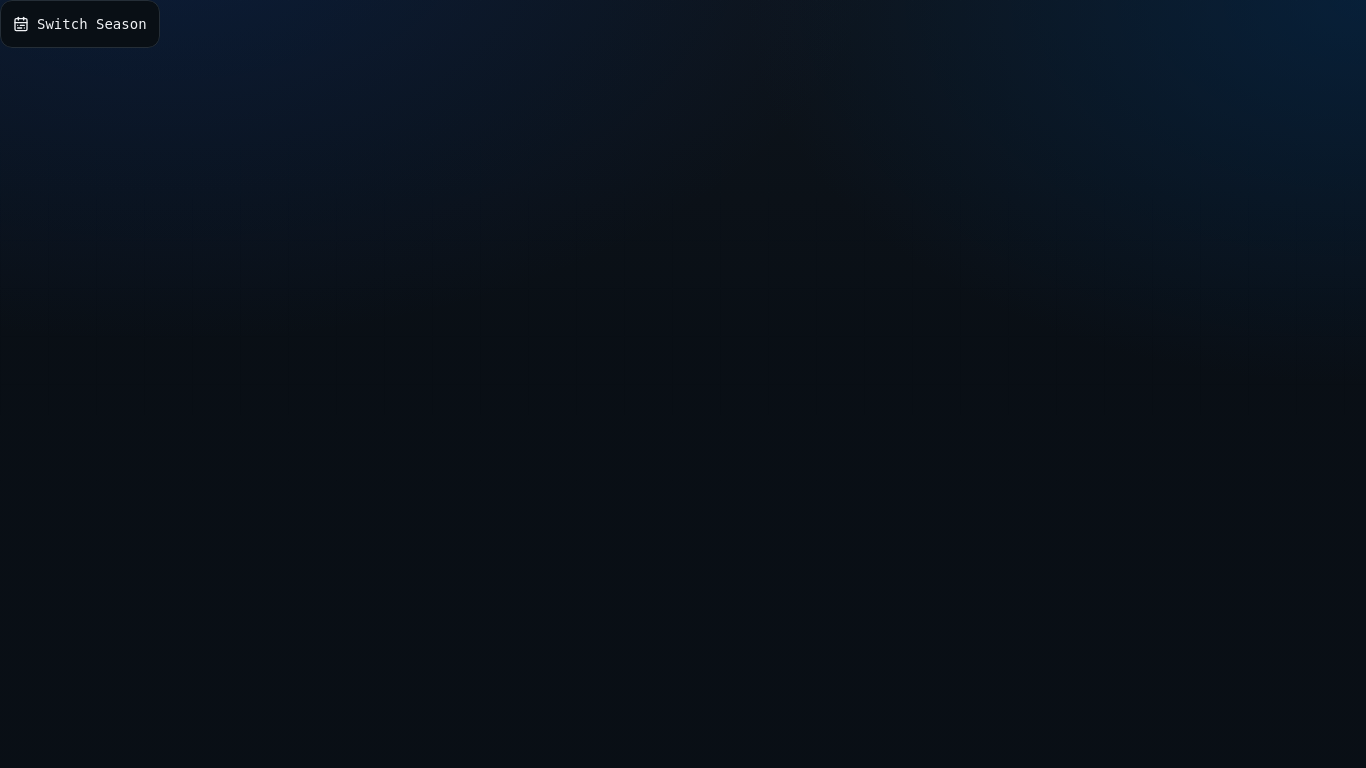
Scenario: SwitchSeasonButton — admin gating › confirms before switching, and only then calls through
The width and height of the screenshot is (1366, 768).
Later steps or results of the test are not shown.
Click the button "Switch Season". click: (80,24)
box: [0,0,160,48]
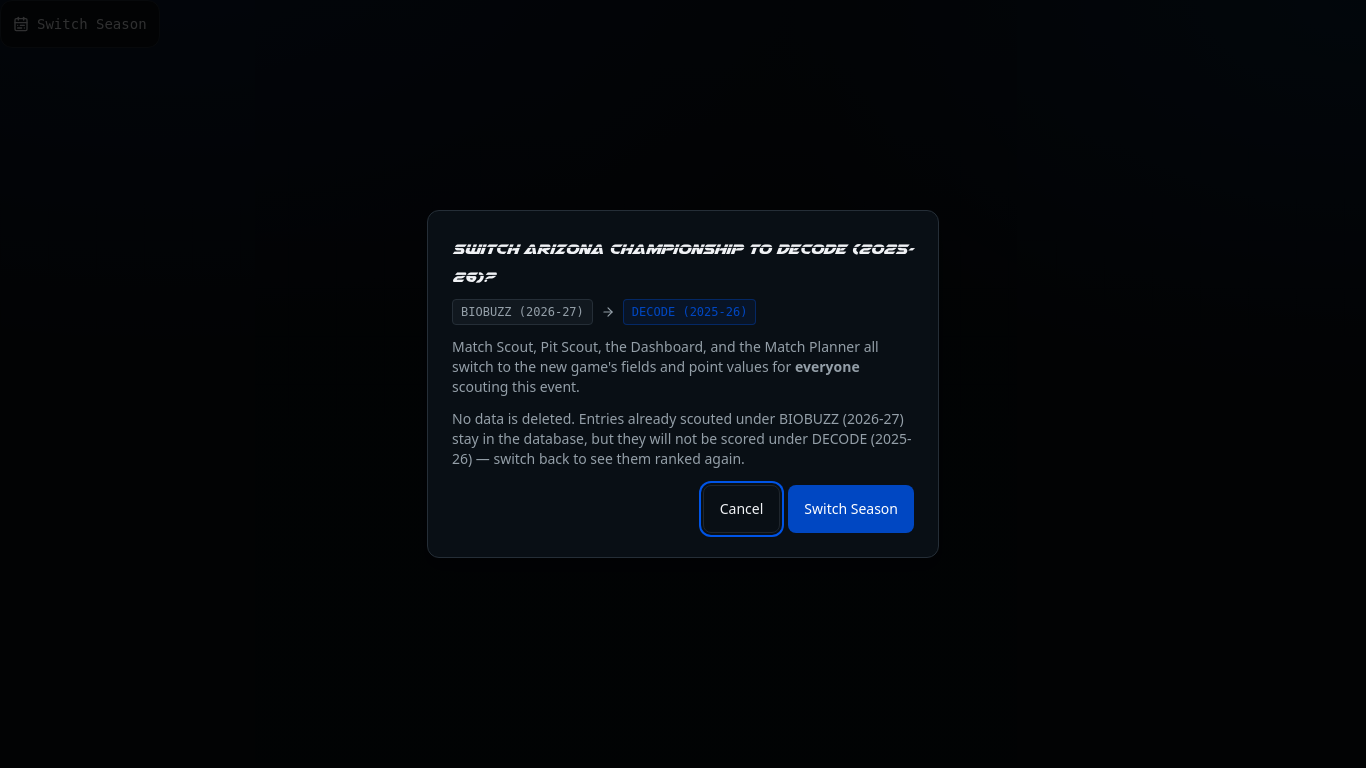
Expected: the heading "Switch Arizona Championship to DECODE (2025-26)?" is shown, [452,235,914,291]
